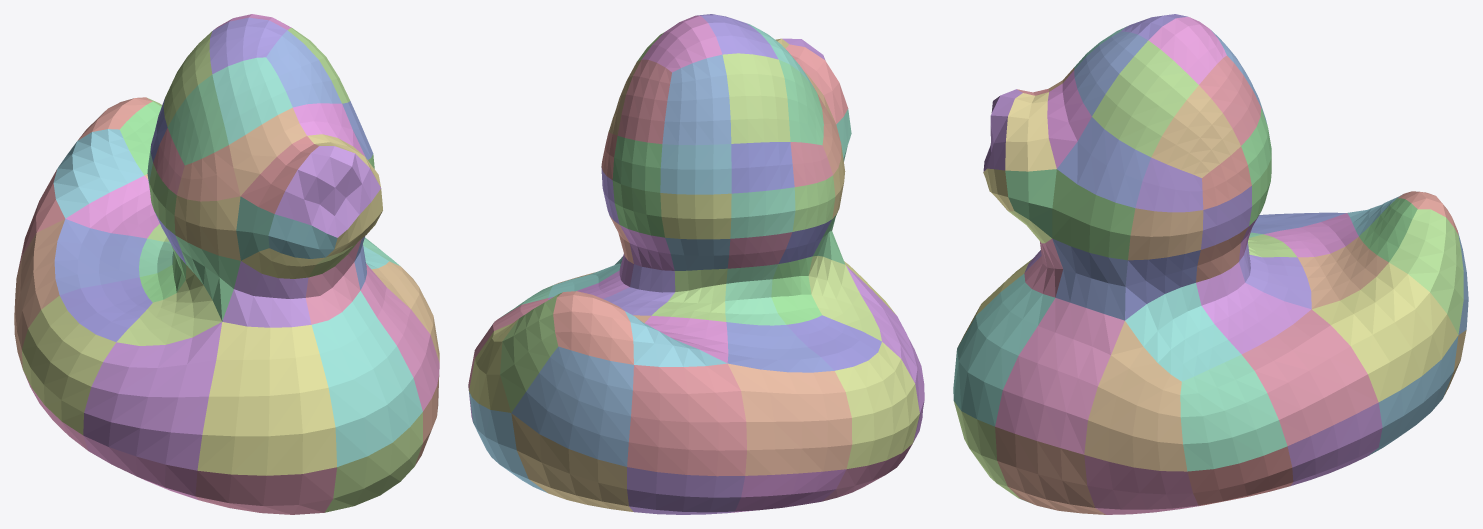
The model's file is duck_quad4_patch_color.obj.
The picture shows the model from 3 angles, left to right: view 1: azimuth 30°, elevation 25°; view 2: azimuth 150°, elevation 25°; view 3: azimuth 270°, elevation 25°; orthographic projection. The views are drawn at different scales.
Size of the model in its own units: 69.86 by 78.98 by 81.71.
